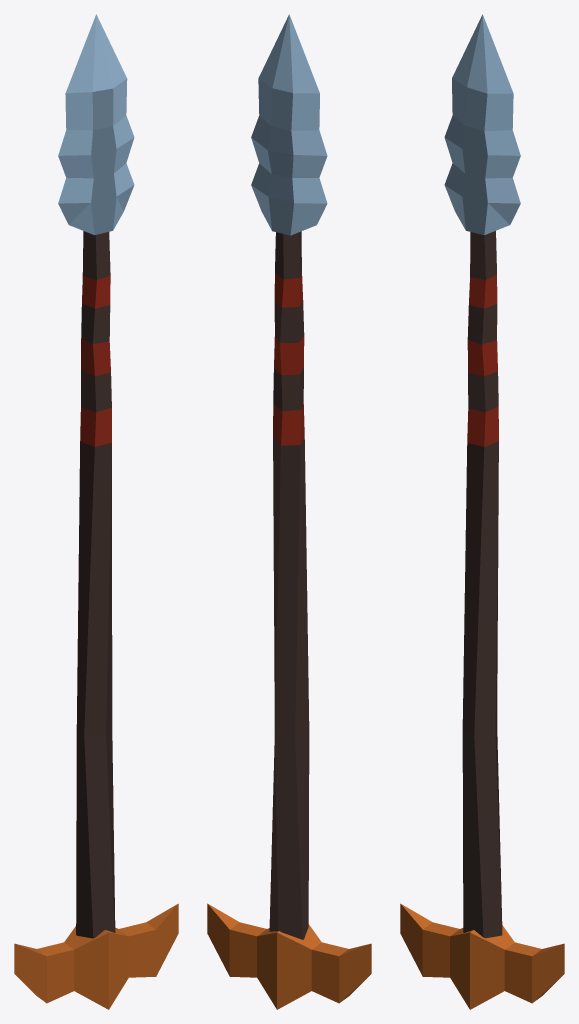
File: Spear_1.fbx
The picture shows the model from 3 angles, left to right: view 1: azimuth 30°, elevation 25°; view 2: azimuth 150°, elevation 25°; view 3: azimuth 330°, elevation 25°; orthographic projection.
Parts seen in each view (by area): view 1: Spear_1; view 2: Spear_1; view 3: Spear_1.
Part boxes in pixels (left/top/right/bottom): Spear_1: left=14, top=14, right=178, bottom=1009; Spear_1: left=207, top=14, right=371, bottom=1009; Spear_1: left=400, top=14, right=564, bottom=1009.
Bounding box in the file's own units: 0.3362 × 1.93 × 0.0879.
